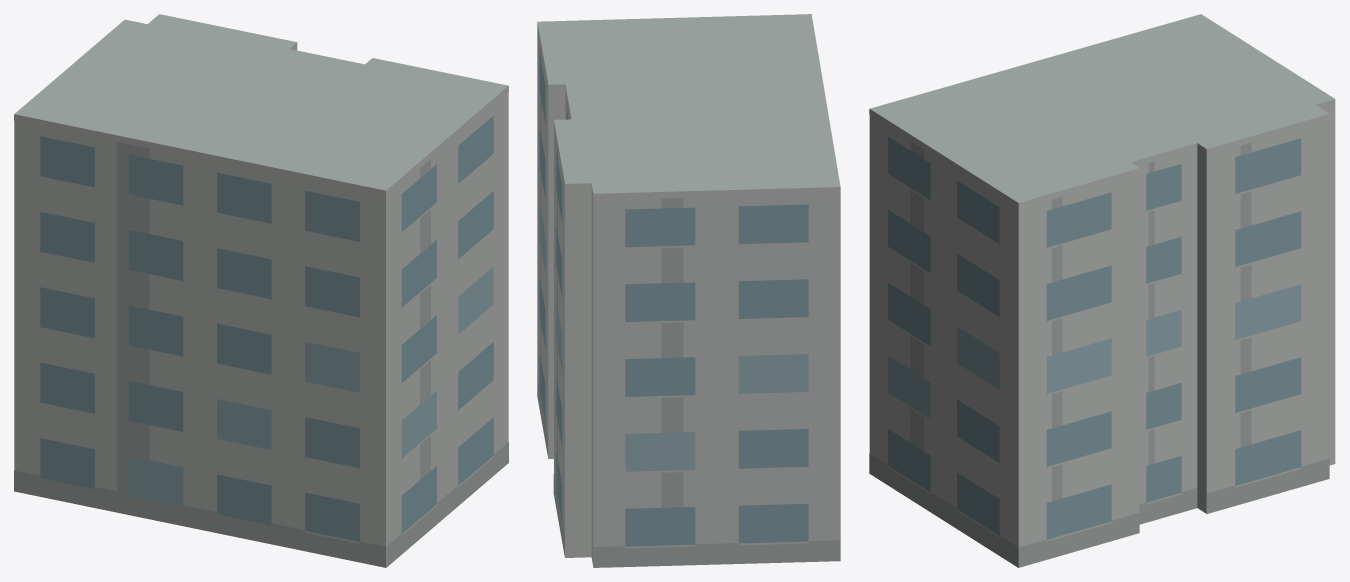
File: survey-upis-32891775.glb
3 renders of one model, left to right at view 1: azimuth 30°, elevation 25°; view 2: azimuth 150°, elevation 25°; view 3: azimuth 270°, elevation 25°, orthographic. The views are drawn at different scales.
Parts seen in each view (by area): view 1: survey-upis-32891775.tmp; view 2: survey-upis-32891775.tmp; view 3: survey-upis-32891775.tmp.
Boxes of the visible parts, box(x1,y1,x2,y2) form: survey-upis-32891775.tmp: box(14, 14, 508, 567); survey-upis-32891775.tmp: box(537, 14, 840, 567); survey-upis-32891775.tmp: box(869, 14, 1335, 567).
Size of the model in its own units: 15.55 by 14 by 16.2.
